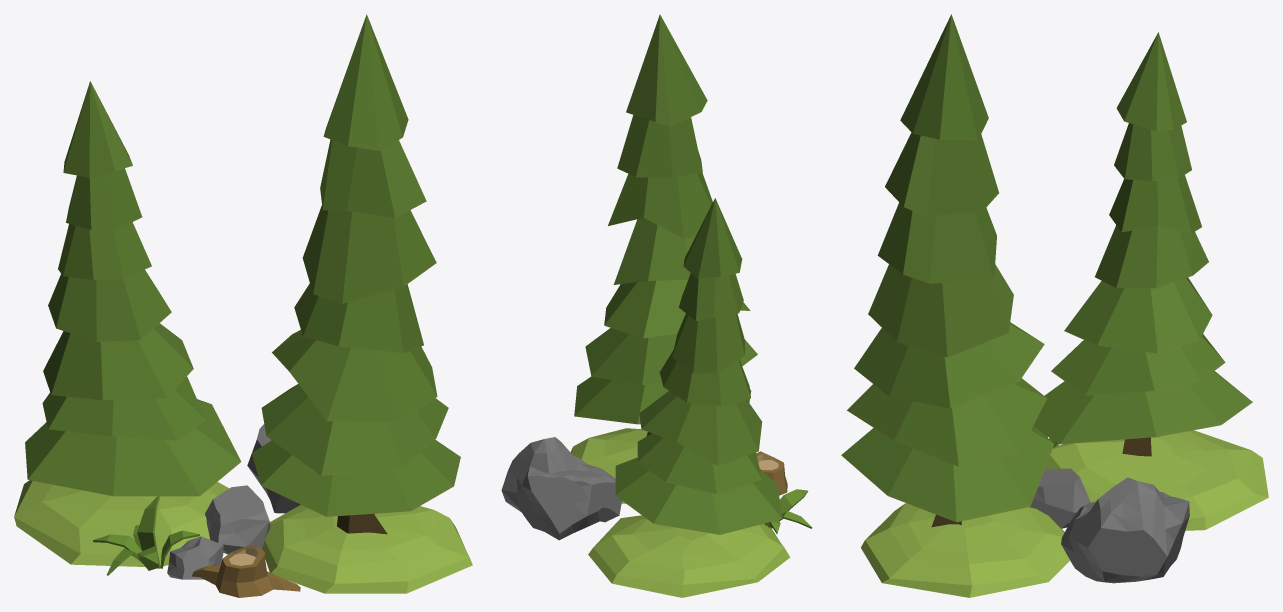
File: nested pines.fbx
3 views of the same model, side by side, from view 1: azimuth 30°, elevation 25°; view 2: azimuth 150°, elevation 25°; view 3: azimuth 270°, elevation 25° (orthographic). The views are drawn at different scales.
Visible parts, largest first — view 1: nature nested1_LOD0; view 2: nature nested1_LOD0; view 3: nature nested1_LOD0.
Part boxes in pixels (x1=…): nature nested1_LOD0: x1=14, y1=14, x2=472, y2=597; nature nested1_LOD0: x1=501, y1=14, x2=812, y2=597; nature nested1_LOD0: x1=841, y1=14, x2=1268, y2=597.
Size of what is drawn, in the model's own units: 6.46 by 10.06 by 7.1.
